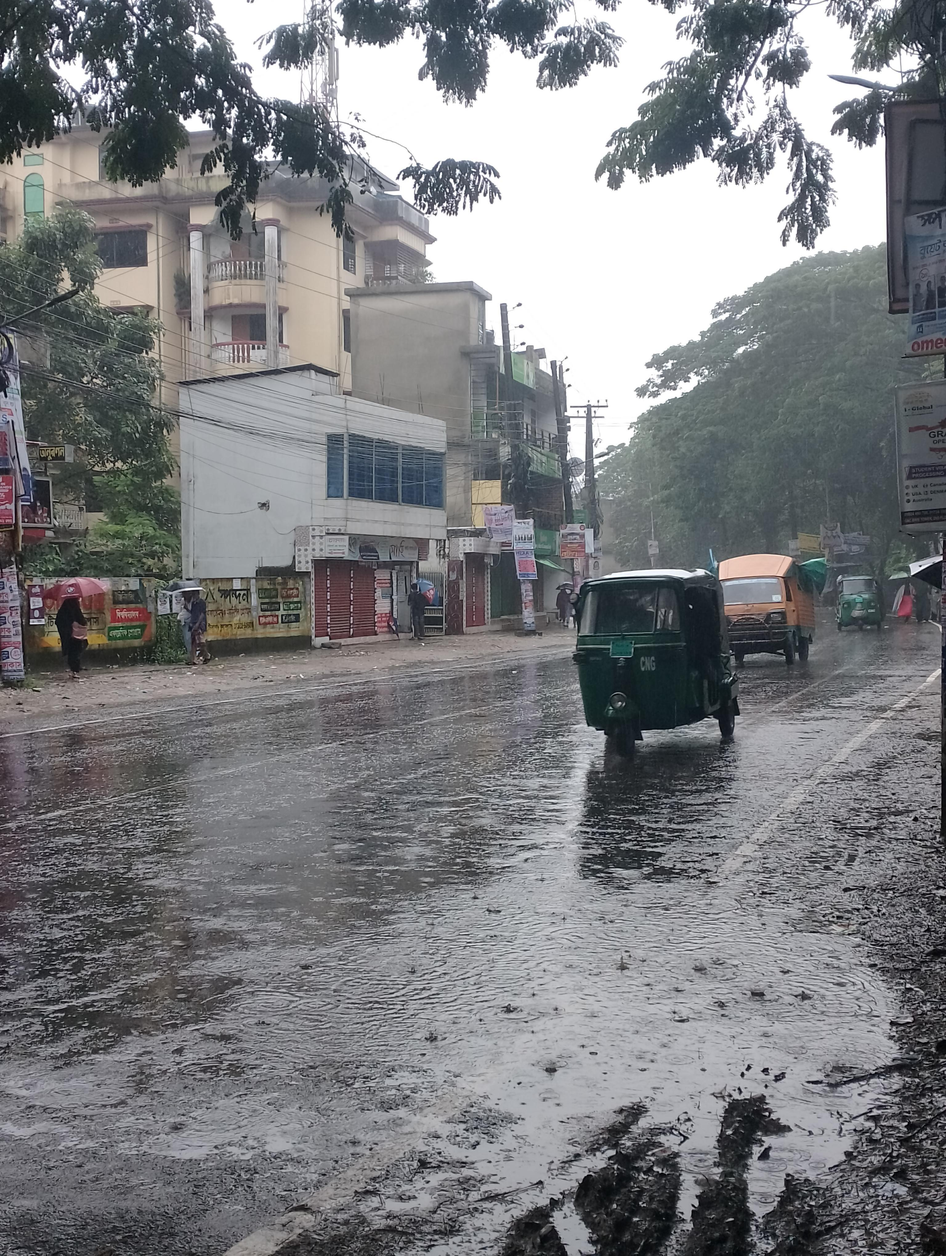Car: (702, 536, 823, 682)
